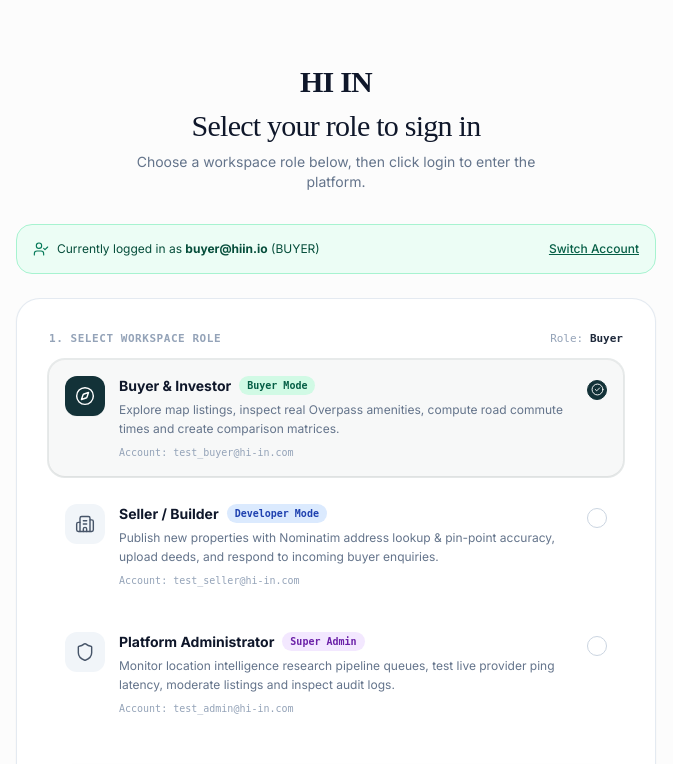
Scenario: Role Selection Login Flow › renders role choices and updates the login action button upon selection
Check: the heading "Select your role to sign in" is shown, box x1=192 y1=109 x2=480 y2=142
Check: the text "Buyer & Investor" is shown, box x1=119 y1=376 x2=231 y2=396
// Click Seller / Builder card
Click the text "Seller / Builder" at x=169, y=514, box x1=119 y1=504 x2=219 y2=524
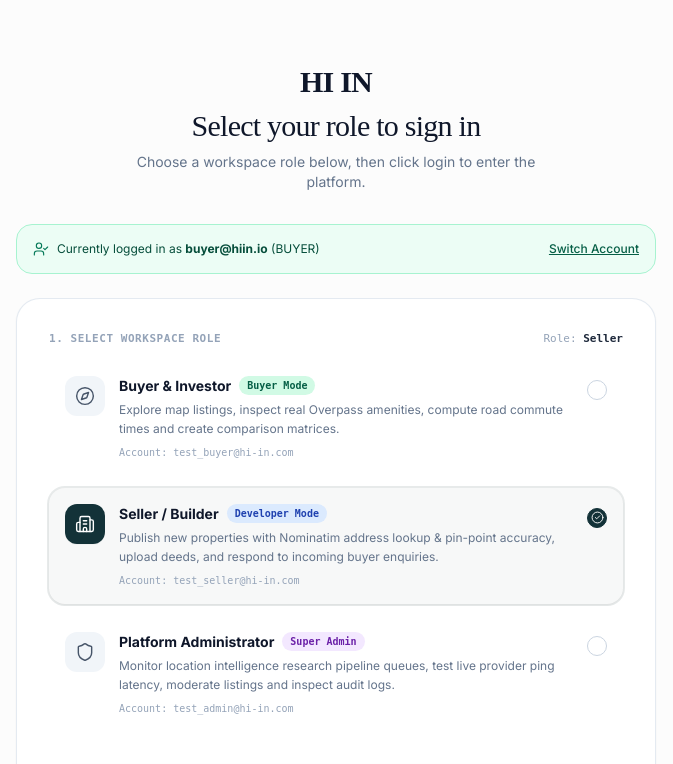
// Click Platform Administrator card
Click the text "Platform Administrator" at x=197, y=642, box x1=119 y1=632 x2=274 y2=652
(page scrolled)
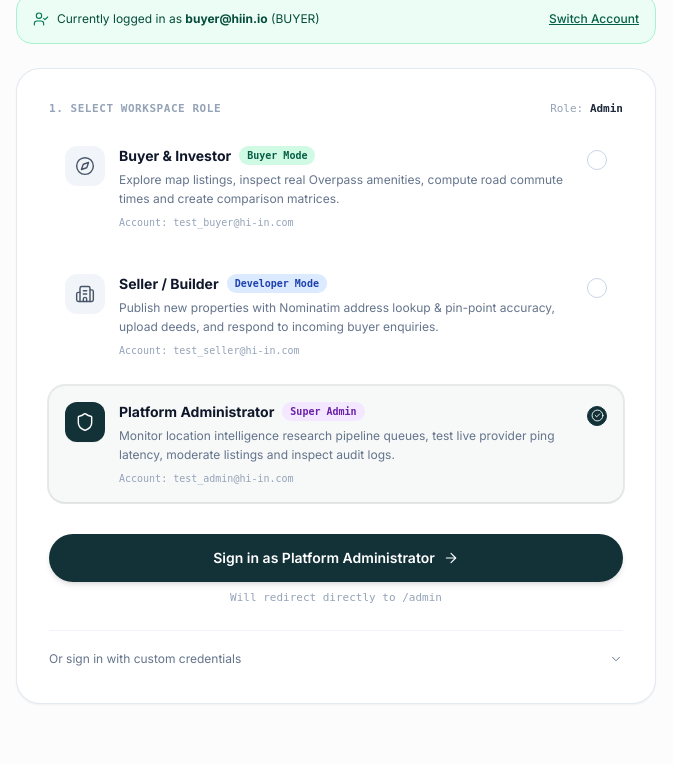
Check: the button "Sign in as Platform Administrator" is shown, box x1=49 y1=534 x2=623 y2=582
